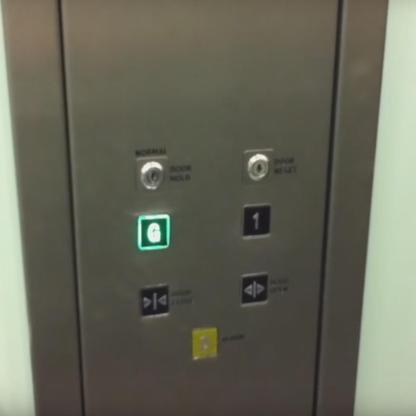1: (240, 201, 274, 241)
G: (136, 212, 172, 252)
alarm: (189, 324, 219, 363)
bt_keyhole: (133, 154, 171, 196), (240, 146, 276, 186)
close: (136, 280, 171, 321)
open: (237, 269, 271, 309)
